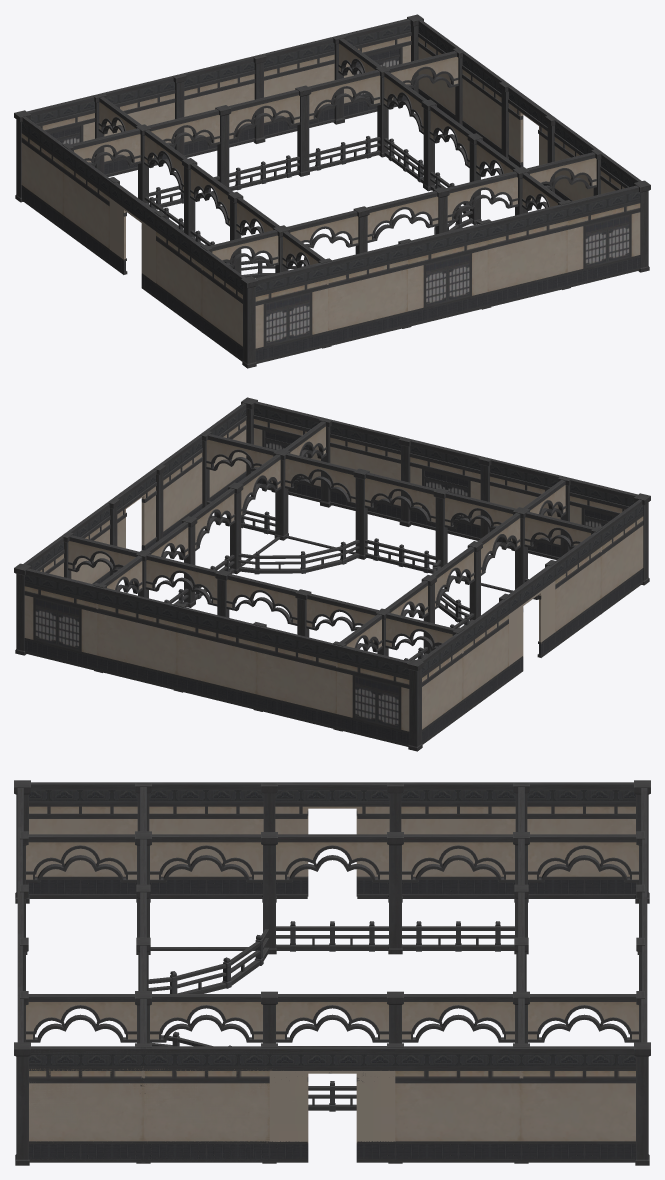
The model's file is Homeworld_Interior_Dq_Room_Q_Wall_01_Vo.fbx.
The picture shows the model from 3 angles, top to bottom: view 1: azimuth 30°, elevation 25°; view 2: azimuth 150°, elevation 25°; view 3: azimuth 270°, elevation 25°; orthographic projection. The views are drawn at different scales.
Parts seen in each view (by area): view 1: Homeworld_Interior_Dq_Room_Wall_01_Vo (×13), Homeworld_Interior_Dq_Room_Wall_05_Vo (×10), Homeworld_Interior_Dq_Room_Wall_02_Vo (×5), Homeworld_Interior_Dq_Room_Pillar_01_Vo (×13), Homeworld_Interior_Dq_Room_Q_Filling_01_Vo, Homeworld_Interior_Dq_Room_Wall_03_Vo (×6), Homeworld_Interior_Dq_Room_Wall_05_01_Vo (×2), Homeworld_Interior_Dq_Room_Wall_06_Vo (×2), Homeworld_Interior_Dq_Room_Pillar_02_Vo (×4); view 2: Homeworld_Interior_Dq_Room_Wall_01_Vo (×13), Homeworld_Interior_Dq_Room_Wall_02_Vo (×5), Homeworld_Interior_Dq_Room_Wall_05_Vo (×10), Homeworld_Interior_Dq_Room_Pillar_01_Vo (×13), Homeworld_Interior_Dq_Room_Wall_05_01_Vo (×2), Homeworld_Interior_Dq_Room_Q_Filling_01_Vo, Homeworld_Interior_Dq_Room_Wall_03_Vo (×6), Homeworld_Interior_Dq_Room_Wall_06_Vo (×2), Homeworld_Interior_Dq_Room_Pillar_02_Vo (×4); view 3: Homeworld_Interior_Dq_Room_Wall_01_Vo (×8), Homeworld_Interior_Dq_Room_Wall_05_Vo (×4), Homeworld_Interior_Dq_Room_Wall_06_Vo (×2), Homeworld_Interior_Dq_Room_Wall_03_Vo (×4), Homeworld_Interior_Dq_Room_Wall_05_01_Vo (×2), Homeworld_Interior_Dq_Room_Pillar_01_Vo (×10), Homeworld_Interior_Dq_Room_Q_Filling_01_Vo, Homeworld_Interior_Dq_Room_Pillar_02_Vo (×2).
Boxes of the visible parts, bbox=[...] form: Homeworld_Interior_Dq_Room_Wall_01_Vo (×13): bbox=[21, 20, 641, 361]; Homeworld_Interior_Dq_Room_Wall_05_Vo (×10): bbox=[144, 70, 601, 270]; Homeworld_Interior_Dq_Room_Wall_02_Vo (×5): bbox=[27, 18, 640, 363]; Homeworld_Interior_Dq_Room_Pillar_01_Vo (×13): bbox=[14, 65, 650, 368]; Homeworld_Interior_Dq_Room_Q_Filling_01_Vo: bbox=[21, 115, 640, 345]; Homeworld_Interior_Dq_Room_Wall_03_Vo (×6): bbox=[64, 35, 568, 284]; Homeworld_Interior_Dq_Room_Wall_05_01_Vo (×2): bbox=[236, 139, 519, 278]; Homeworld_Interior_Dq_Room_Wall_06_Vo (×2): bbox=[109, 84, 554, 298]; Homeworld_Interior_Dq_Room_Pillar_02_Vo (×4): bbox=[172, 34, 510, 159]; Homeworld_Interior_Dq_Room_Wall_01_Vo (×13): bbox=[23, 403, 643, 744]; Homeworld_Interior_Dq_Room_Wall_02_Vo (×5): bbox=[24, 401, 637, 746]; Homeworld_Interior_Dq_Room_Wall_05_Vo (×10): bbox=[145, 432, 601, 661]; Homeworld_Interior_Dq_Room_Pillar_01_Vo (×13): bbox=[14, 448, 650, 751]; Homeworld_Interior_Dq_Room_Wall_05_01_Vo (×2): bbox=[237, 453, 520, 622]; Homeworld_Interior_Dq_Room_Q_Filling_01_Vo: bbox=[24, 498, 643, 728]; Homeworld_Interior_Dq_Room_Wall_03_Vo (×6): bbox=[63, 421, 566, 667]; Homeworld_Interior_Dq_Room_Wall_06_Vo (×2): bbox=[110, 467, 555, 681]; Homeworld_Interior_Dq_Room_Pillar_02_Vo (×4): bbox=[154, 417, 492, 542]; Homeworld_Interior_Dq_Room_Wall_01_Vo (×8): bbox=[29, 782, 635, 1162]; Homeworld_Interior_Dq_Room_Wall_05_Vo (×4): bbox=[276, 834, 514, 1111]; Homeworld_Interior_Dq_Room_Wall_06_Vo (×2): bbox=[269, 782, 395, 1162]; Homeworld_Interior_Dq_Room_Wall_03_Vo (×4): bbox=[17, 834, 647, 1042]; Homeworld_Interior_Dq_Room_Wall_05_01_Vo (×2): bbox=[140, 834, 269, 1046]; Homeworld_Interior_Dq_Room_Pillar_01_Vo (×10): bbox=[14, 780, 650, 1165]; Homeworld_Interior_Dq_Room_Q_Filling_01_Vo: bbox=[29, 809, 635, 1162]; Homeworld_Interior_Dq_Room_Pillar_02_Vo (×2): bbox=[261, 782, 403, 902].
Size of what is drawn, in the model's own units: 25.28 by 5.12 by 25.28.
